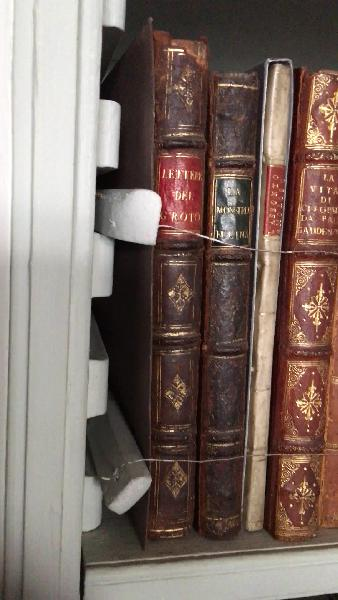Aa6-1: (146, 18, 205, 549)
Aa6-2: (201, 54, 258, 539)
Aa6-3: (241, 34, 295, 536)
Aa6-4: (269, 49, 338, 542)
